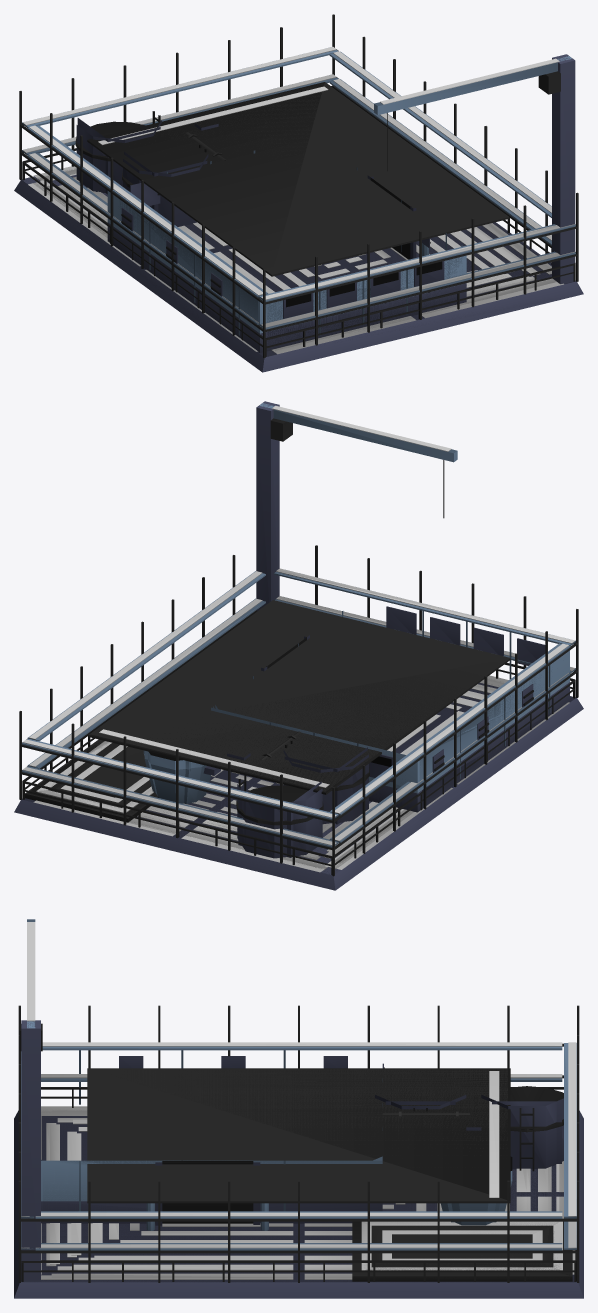
Rendered from veyran_refinery_scaffolding.glb.
The picture shows the model from 3 angles, top to bottom: view 1: azimuth 30°, elevation 25°; view 2: azimuth 150°, elevation 25°; view 3: azimuth 270°, elevation 25°; orthographic projection. The views are drawn at different scales.
Parts seen in each view (by area): view 1: body (×3); view 2: body (×3); view 3: body (×3).
Boxes of the visible parts, box(x1,y1,x2,y2) form: body (×3): box(14, 14, 583, 372); body (×3): box(14, 401, 583, 890); body (×3): box(14, 919, 583, 1298).
Size of the model in its own units: 11.2 by 7.77 by 15.
